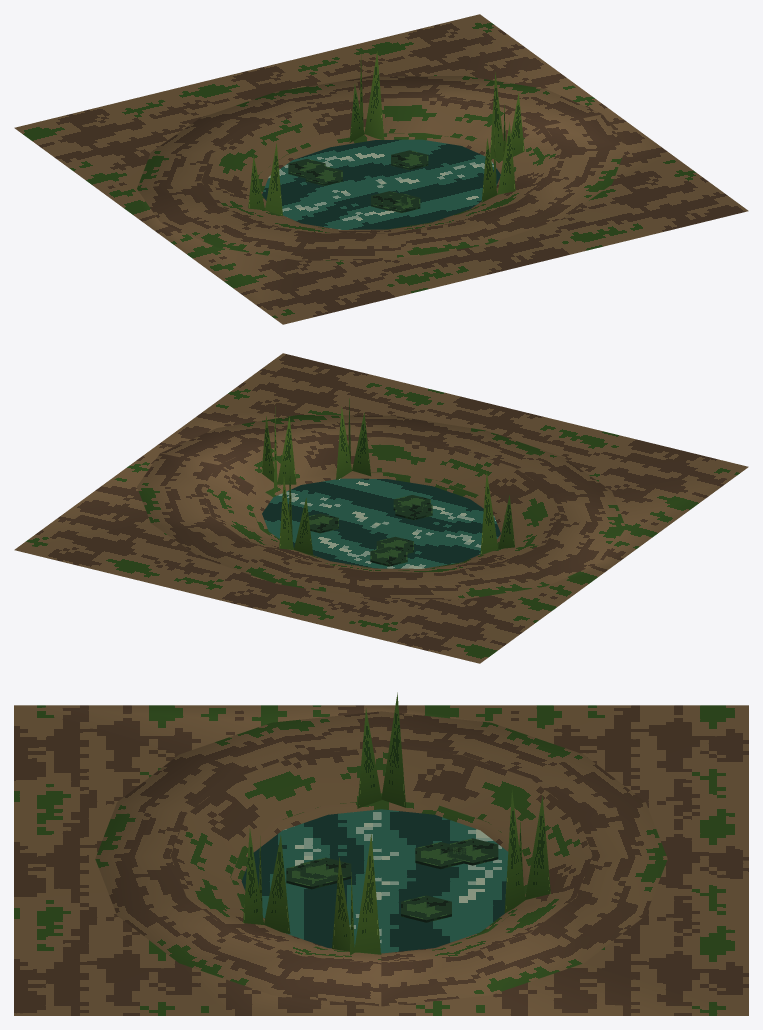
The model's file is wild.oasis__small.glb.
3 views of the same model, one above another, from view 1: azimuth 30°, elevation 25°; view 2: azimuth 150°, elevation 25°; view 3: azimuth 270°, elevation 25° (orthographic). The views are drawn at different scales.
Visible parts, largest first — view 1: kit_shell_skirt, kit_bank, kit_shell_water, kit_shell_reeds, kit_pads; view 2: kit_shell_skirt, kit_bank, kit_shell_water, kit_shell_reeds, kit_pads; view 3: kit_shell_skirt, kit_bank, kit_shell_water, kit_shell_reeds, kit_pads.
Boxes of the visible parts, x1=… form: kit_shell_skirt: x1=14, y1=14, x2=748, y2=324; kit_bank: x1=137, y1=76, x2=625, y2=260; kit_shell_water: x1=262, y1=139, x2=500, y2=229; kit_shell_reeds: x1=248, y1=51, x2=524, y2=216; kit_pads: x1=288, y1=150, x2=428, y2=212; kit_shell_skirt: x1=14, y1=353, x2=748, y2=663; kit_bank: x1=137, y1=415, x2=625, y2=599; kit_shell_water: x1=262, y1=478, x2=500, y2=568; kit_shell_reeds: x1=261, y1=398, x2=514, y2=555; kit_pads: x1=308, y1=495, x2=432, y2=566; kit_shell_skirt: x1=14, y1=705, x2=748, y2=1015; kit_bank: x1=95, y1=711, x2=667, y2=1006; kit_shell_water: x1=241, y1=809, x2=508, y2=953; kit_shell_reeds: x1=243, y1=692, x2=550, y2=955; kit_pads: x1=286, y1=838, x2=498, y2=922.
Bounding box in the file's own units: 8 × 1.56 × 8.
4 materials, 4 textured.
